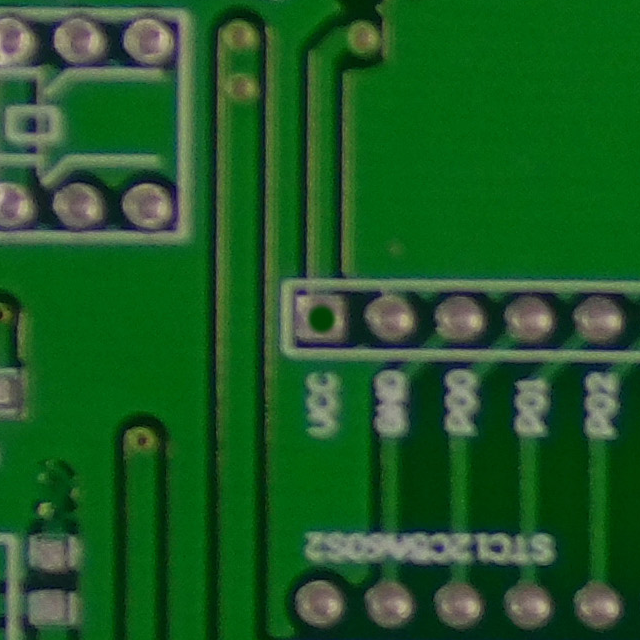missing_hole: (286, 284, 354, 356)
